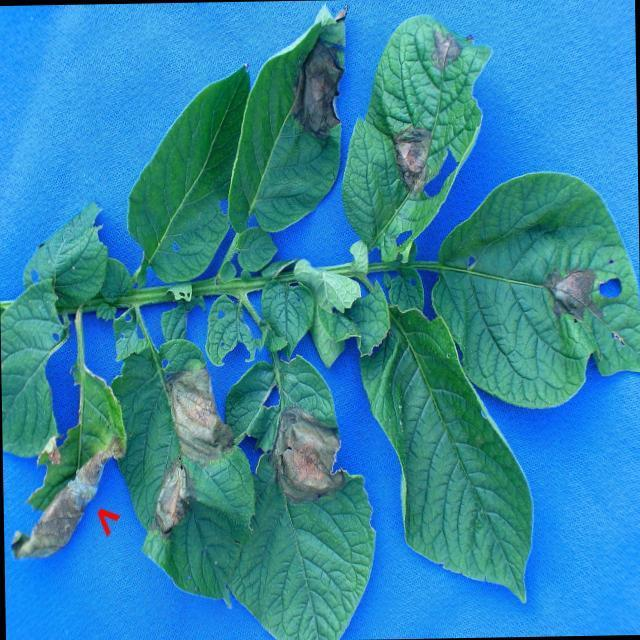Healthy Leaf: (375, 323, 522, 607)
